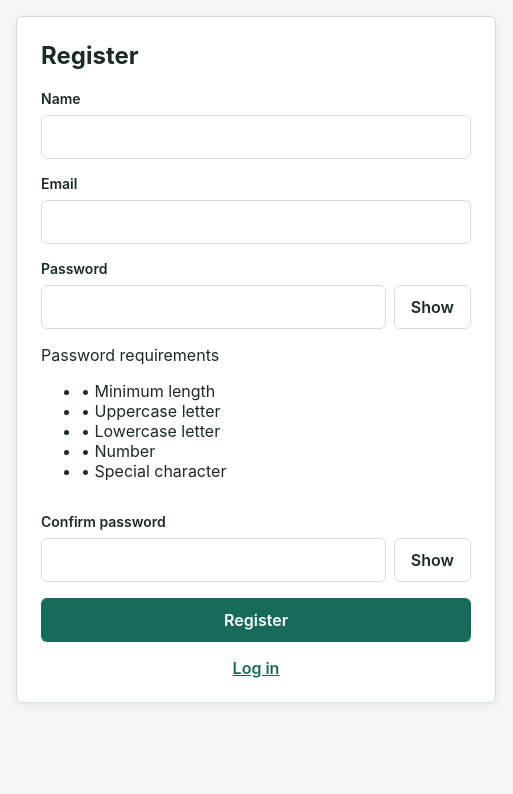
RegistrationPage › shows required-field errors for an empty form without registering
Click the button "Register" at (256, 620), box [41,598,471,642]
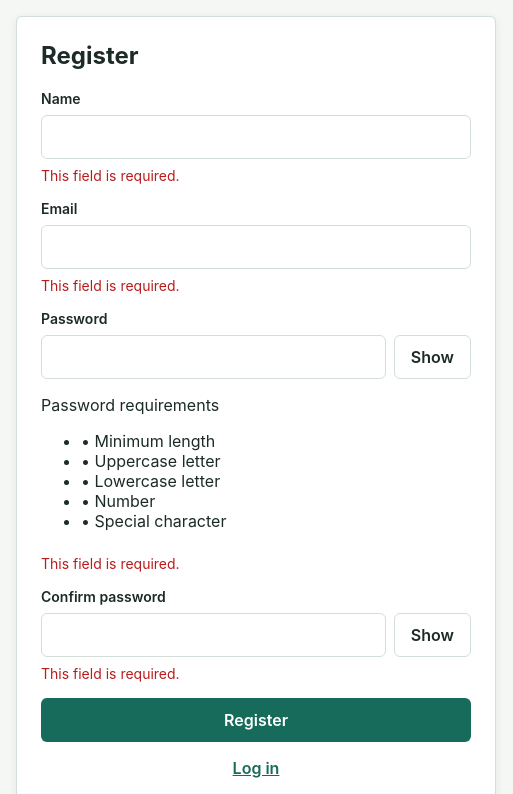
Now the text "This field is required." is shown 4 times, box [41,167,180,184]; [41,277,180,294]; [41,555,180,572]; [41,665,180,682]
